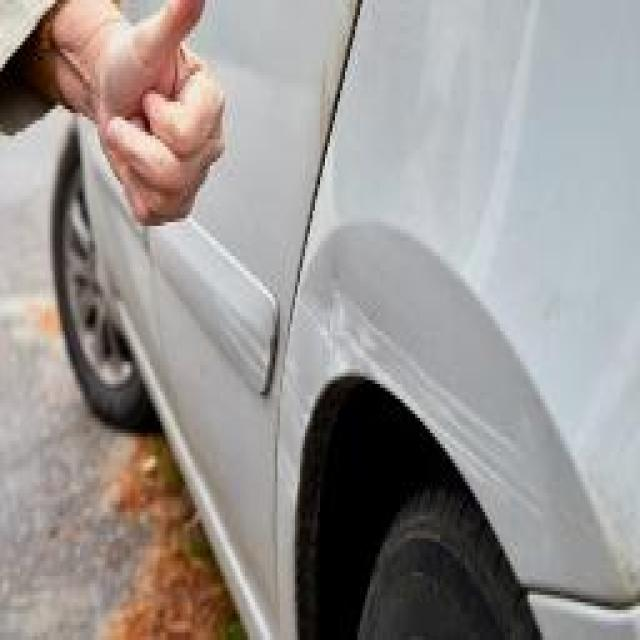Fender: (272, 245, 548, 576)
